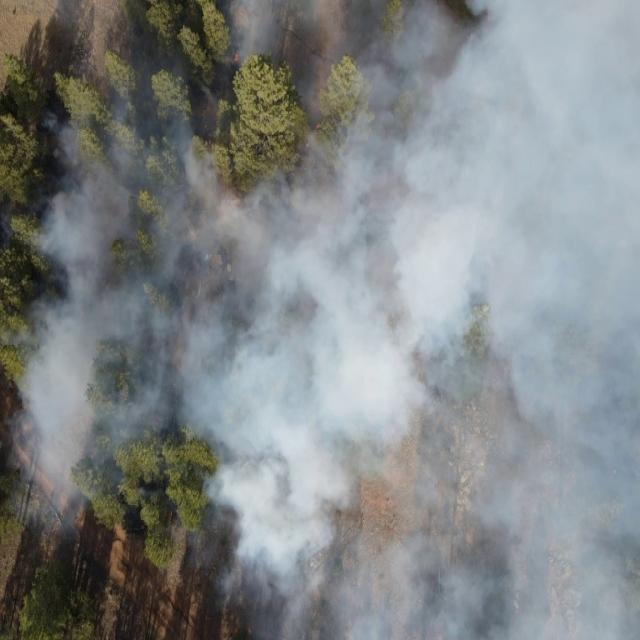fire: (226, 42, 253, 76), (309, 117, 336, 145)
smoke: (212, 187, 637, 640), (19, 96, 212, 484), (307, 84, 640, 194), (434, 0, 640, 98), (234, 0, 428, 84), (26, 483, 100, 538)
